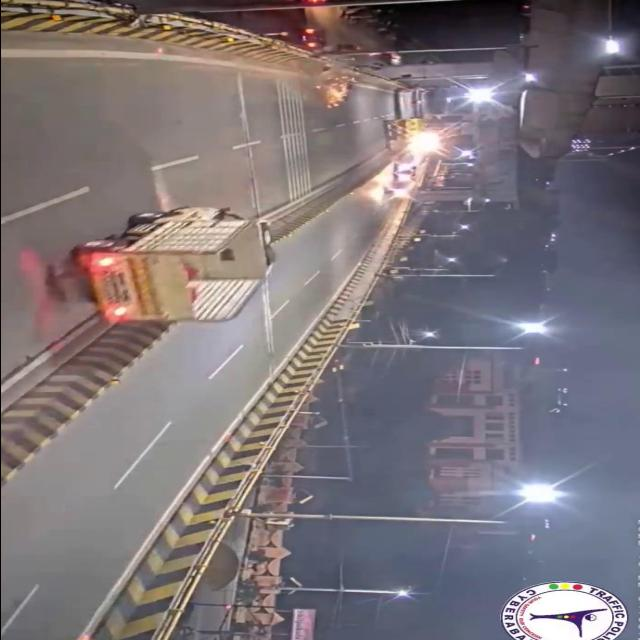accident: (315, 74, 357, 108)
